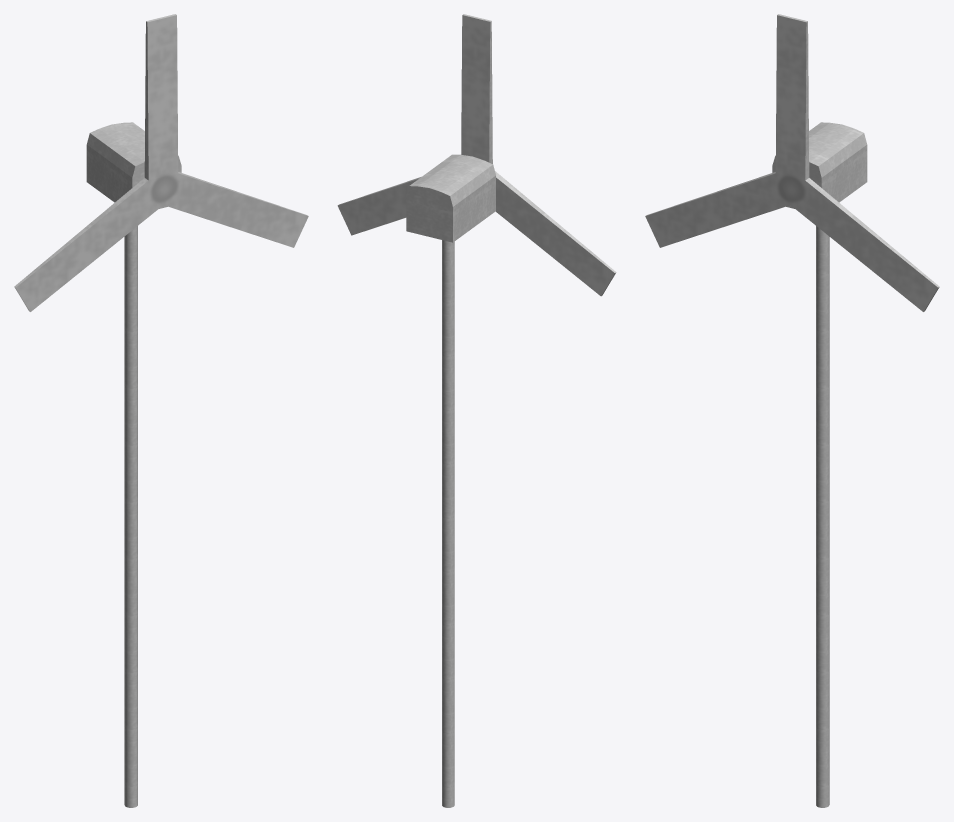
File: windmill.FBX
3 views of the same model, side by side, from view 1: azimuth 30°, elevation 25°; view 2: azimuth 150°, elevation 25°; view 3: azimuth 330°, elevation 25° (orthographic). The views are drawn at different scales.
Visible parts, largest first — view 1: Box001, Cylinder001; view 2: Cylinder001, Box001; view 3: Box001, Cylinder001.
Boxes of the visible parts, left/top/right/bottom form: Box001: left=14, top=14, right=308, bottom=311; Cylinder001: left=86, top=122, right=181, bottom=807; Cylinder001: left=406, top=154, right=495, bottom=807; Box001: left=337, top=14, right=616, bottom=296; Box001: left=645, top=14, right=939, bottom=311; Cylinder001: left=772, top=122, right=867, bottom=807.
Size of the model in its own units: 2.97 by 7.84 by 0.9136.
2 materials, 2 textured.
